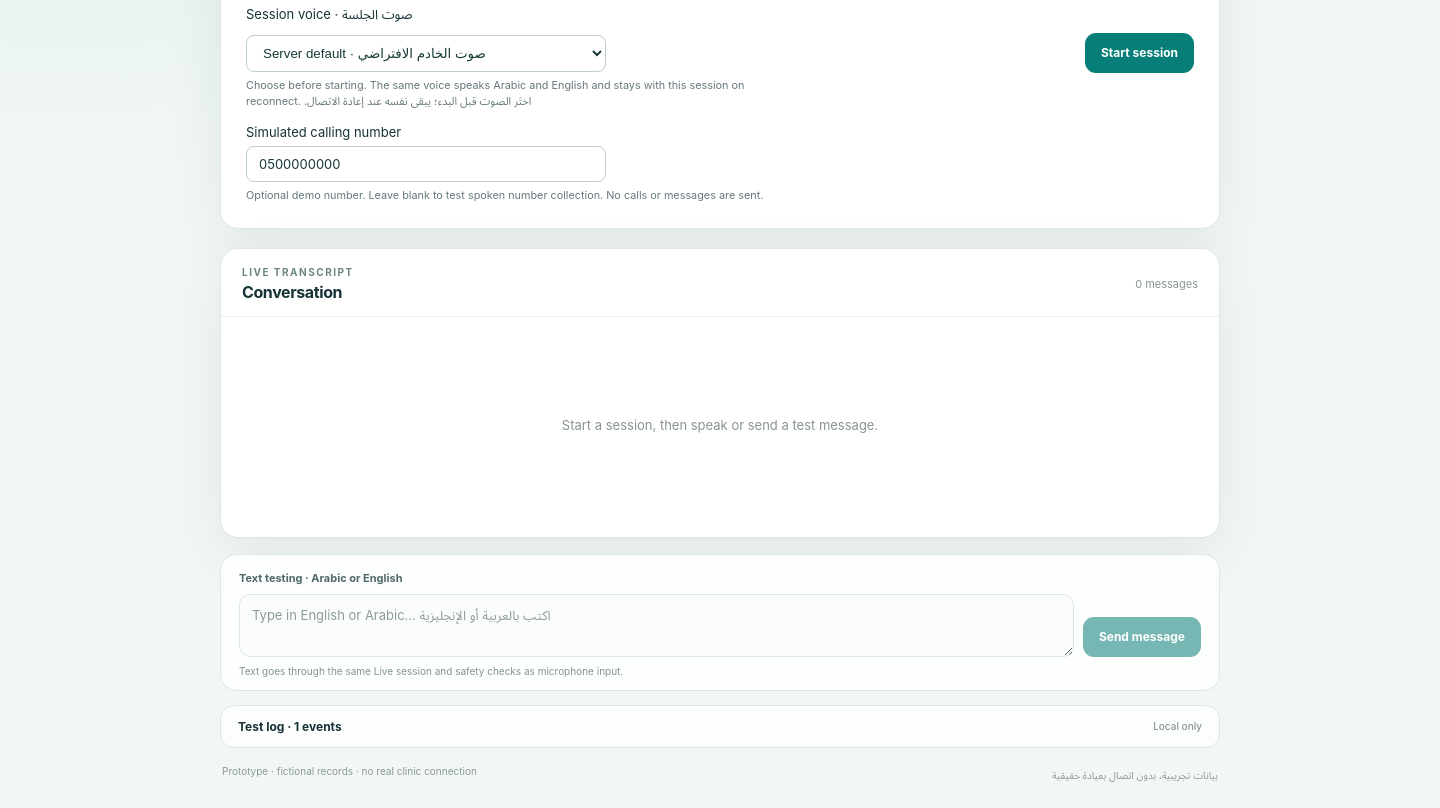
Test: web voice-agent interface › restores the test log after the app is remounted
(page scrolled)
Step 1. Click the text "Test log · 1 events" → (290, 726), box x1=238 y1=719 x2=342 y2=734
(page scrolled)
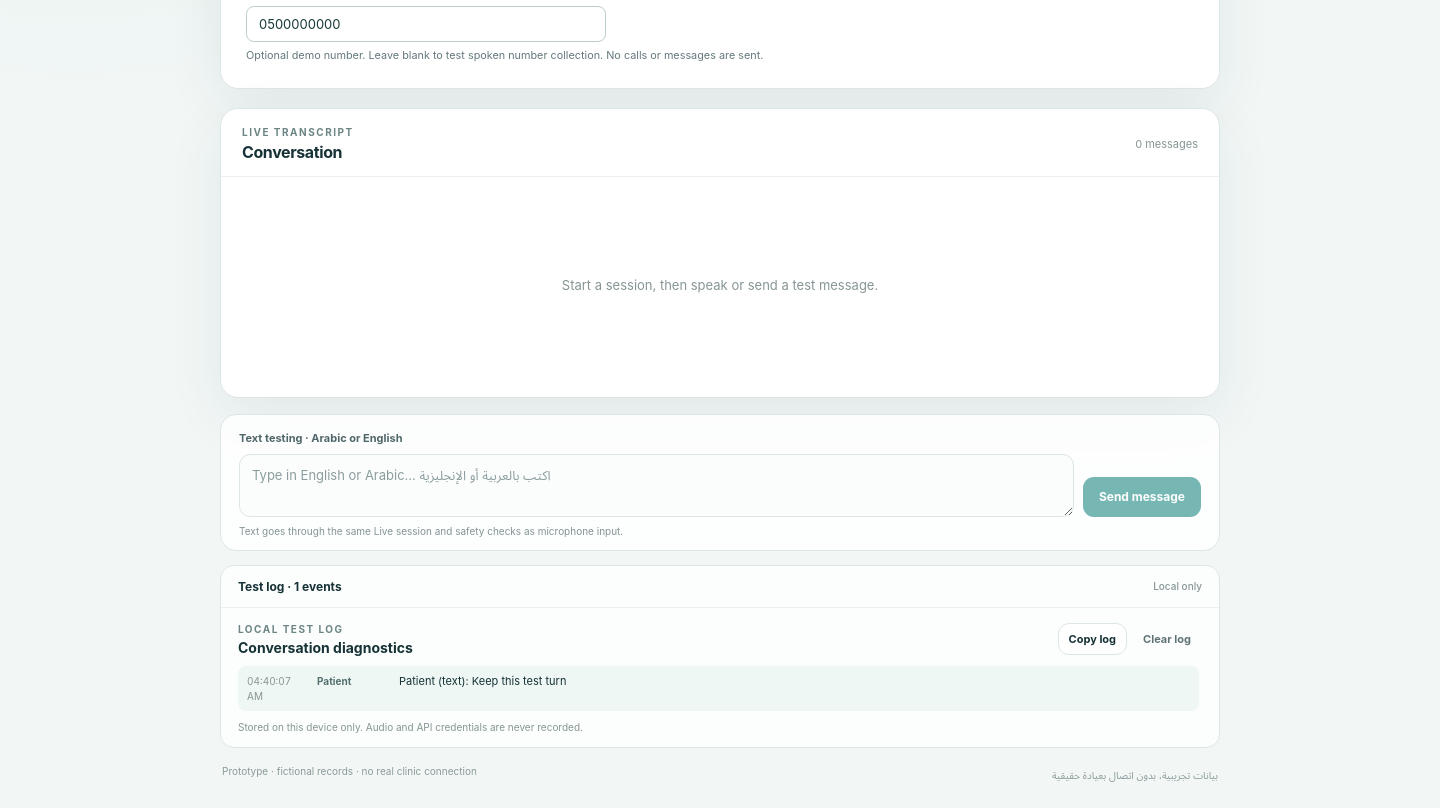
Expected: the text "Patient (text): Keep this test turn" is shown, x1=399 y1=674 x2=566 y2=688
